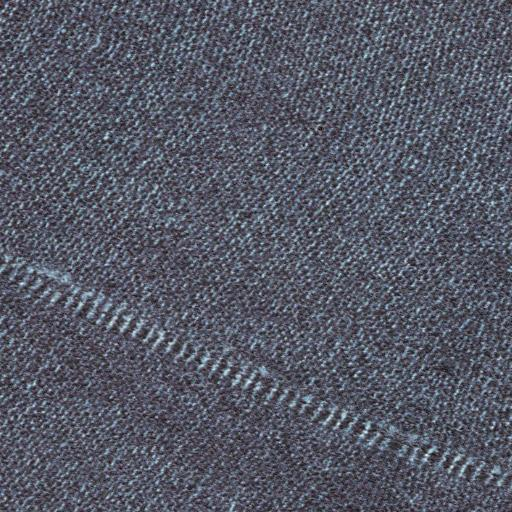slub: (0, 252, 511, 495)
